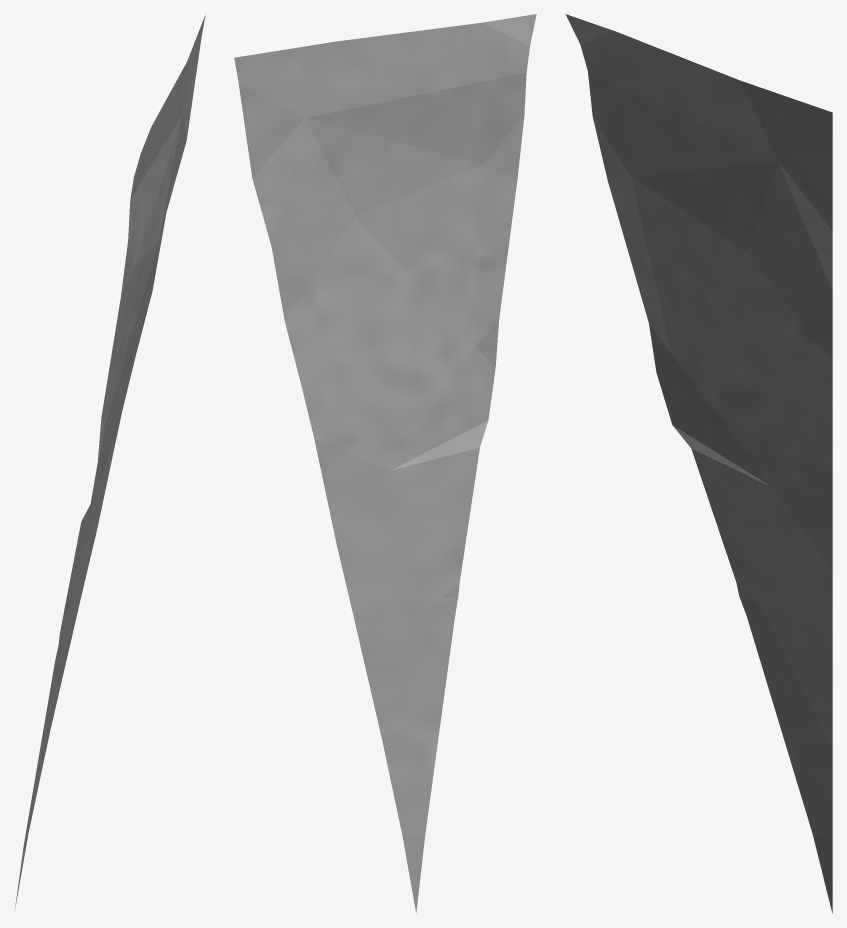
3 views of the same model, side by side, from view 1: azimuth 30°, elevation 25°; view 2: azimuth 150°, elevation 25°; view 3: azimuth 270°, elevation 25° (orthographic). The views are drawn at different scales.
Bounding box in the file's own units: 0.0626 × 0.2669 × 0.0718.
1 material, 1 textured.
